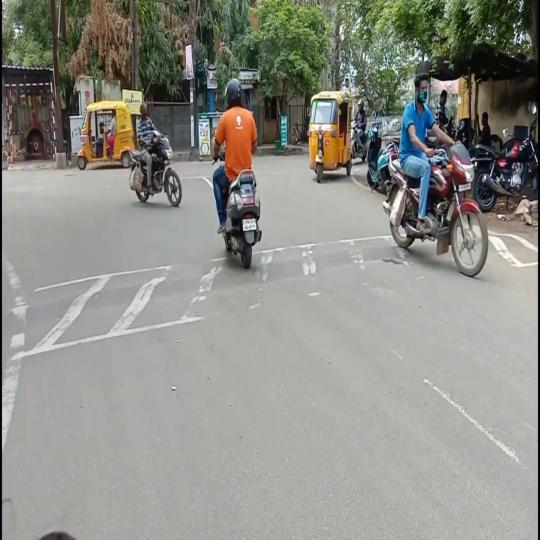Speed Bump: (2, 267, 244, 329), (255, 241, 394, 281), (489, 234, 538, 253)
